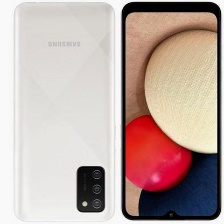phone: (11, 0, 119, 224), (118, 0, 222, 221)
